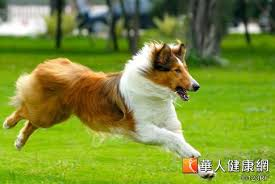dog: (130, 37, 214, 110)
